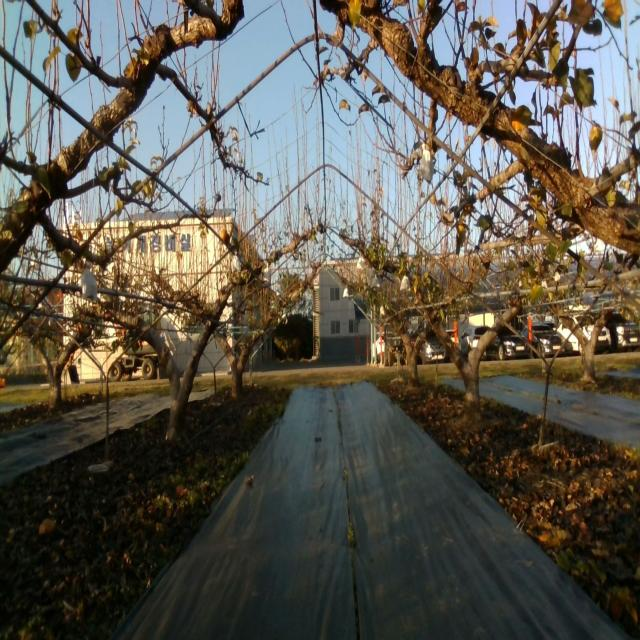pearbags: (81, 261, 99, 302), (420, 143, 434, 186), (231, 250, 241, 274)
